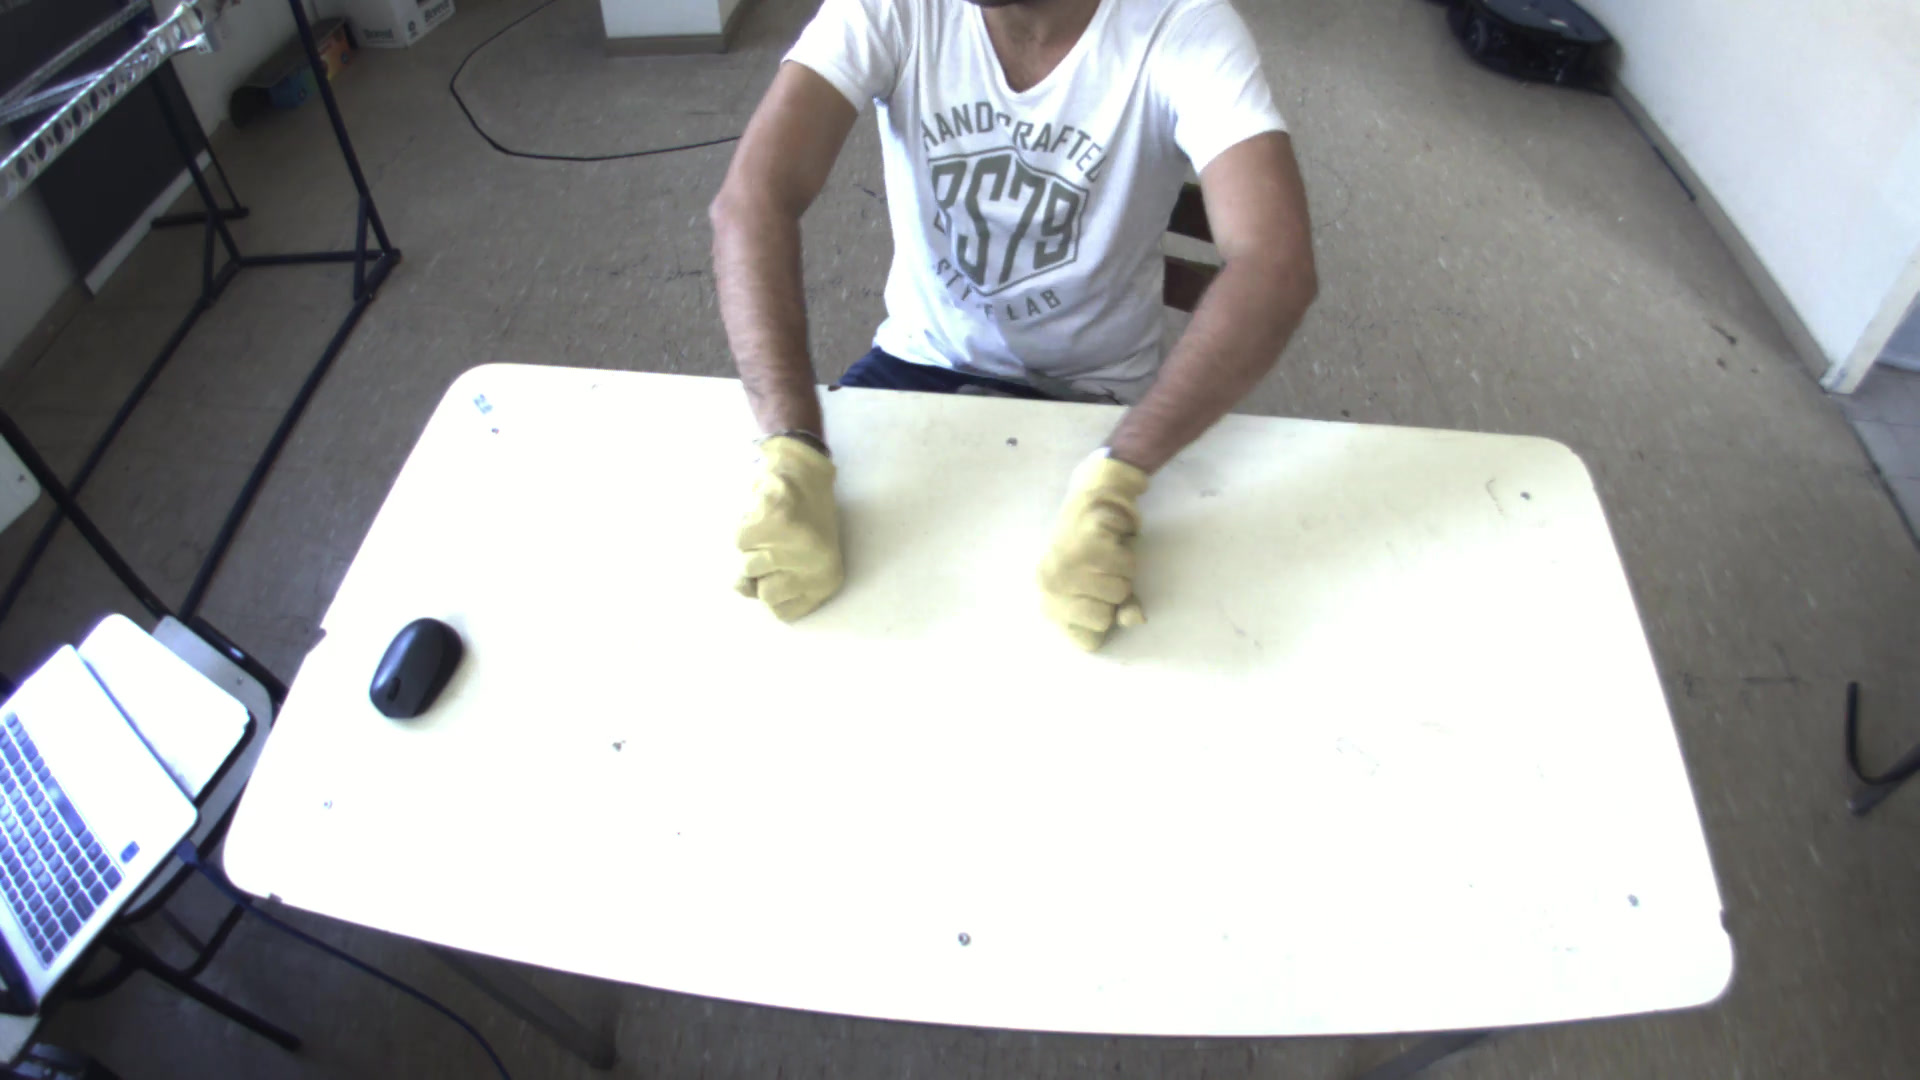hand: (1031, 436, 1167, 661), (727, 421, 855, 626)
